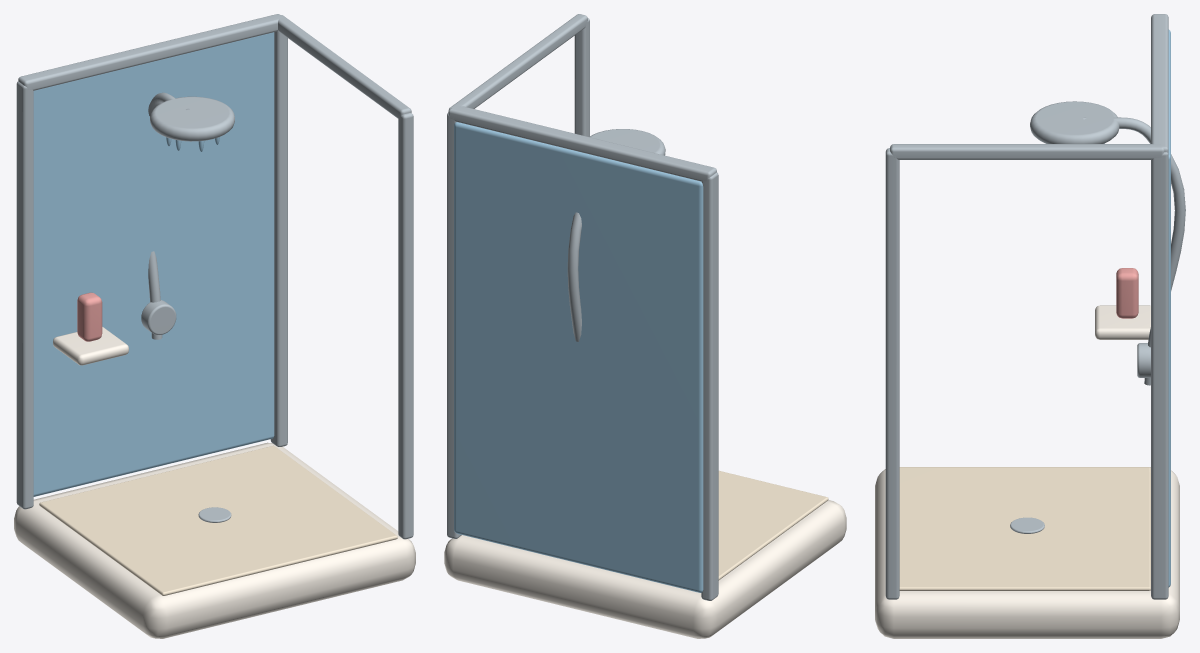
Rendered from bathroomShowerCabin.glb.
3 views of the same model, side by side, from view 1: azimuth 30°, elevation 25°; view 2: azimuth 150°, elevation 25°; view 3: azimuth 270°, elevation 25° (orthographic). The views are drawn at different scales.
Parts seen in each view (by area): view 1: Frosted back panel, Shower floor, Raised shower tray, Shower upright, Front upright, Shower upright.001, Shower top rail, Rain shower head, Side glass frame, Soap ledge, Shampoo bottle, Shower mixer (+1 smaller); view 2: Frosted back panel, Raised shower tray, Shower upright, Shower floor, Shower top rail, Shower upright.001, Side glass frame, Front upright, Shower pipe, Rain shower head; view 3: Shower floor, Raised shower tray, Shower upright.001, Front upright, Side glass frame, Rain shower head, Shower top rail, Shower pipe, Soap ledge, Frosted back panel, Shampoo bottle, Shower drain (+1 smaller).
Boxes of the visible parts, box(x1,y1,x2,y2) form: Frosted back panel: box(33, 32, 274, 496); Shower floor: box(39, 445, 397, 595); Raised shower tray: box(14, 442, 415, 638); Shower upright: box(16, 81, 33, 509); Front upright: box(398, 113, 413, 539); Shower upright.001: box(270, 31, 287, 446); Shower top rail: box(18, 14, 282, 90); Rain shower head: box(150, 96, 234, 141); Side glass frame: box(278, 15, 411, 118); Soap ledge: box(53, 327, 128, 365); Shampoo bottle: box(77, 292, 102, 341); Shower mixer: box(141, 300, 176, 334); Frosted back panel: box(454, 122, 703, 592); Raised shower tray: box(444, 500, 846, 638); Shower upright: box(701, 172, 718, 600); Shower floor: box(718, 470, 828, 580); Shower top rail: box(448, 105, 716, 181); Shower upright.001: box(447, 113, 461, 538); Side glass frame: box(448, 14, 587, 110); Front upright: box(574, 18, 589, 136); Shower pipe: box(567, 212, 581, 341); Rain shower head: box(589, 129, 665, 155); Shower floor: box(899, 467, 1150, 590); Raised shower tray: box(875, 467, 1179, 638); Shower upright.001: box(1151, 152, 1168, 599); Front upright: box(885, 148, 899, 599); Side glass frame: box(890, 144, 1164, 159); Rain shower head: box(1030, 101, 1119, 143); Shower top rail: box(1151, 14, 1168, 152); Shower pipe: box(1083, 117, 1185, 385); Soap ledge: box(1095, 305, 1150, 339); Frosted back panel: box(1168, 29, 1170, 587); Shampoo bottle: box(1116, 268, 1138, 318); Shower drain: box(1010, 517, 1044, 533).
Bounding box in the file's own units: 1.32 × 2.19 × 1.24.
